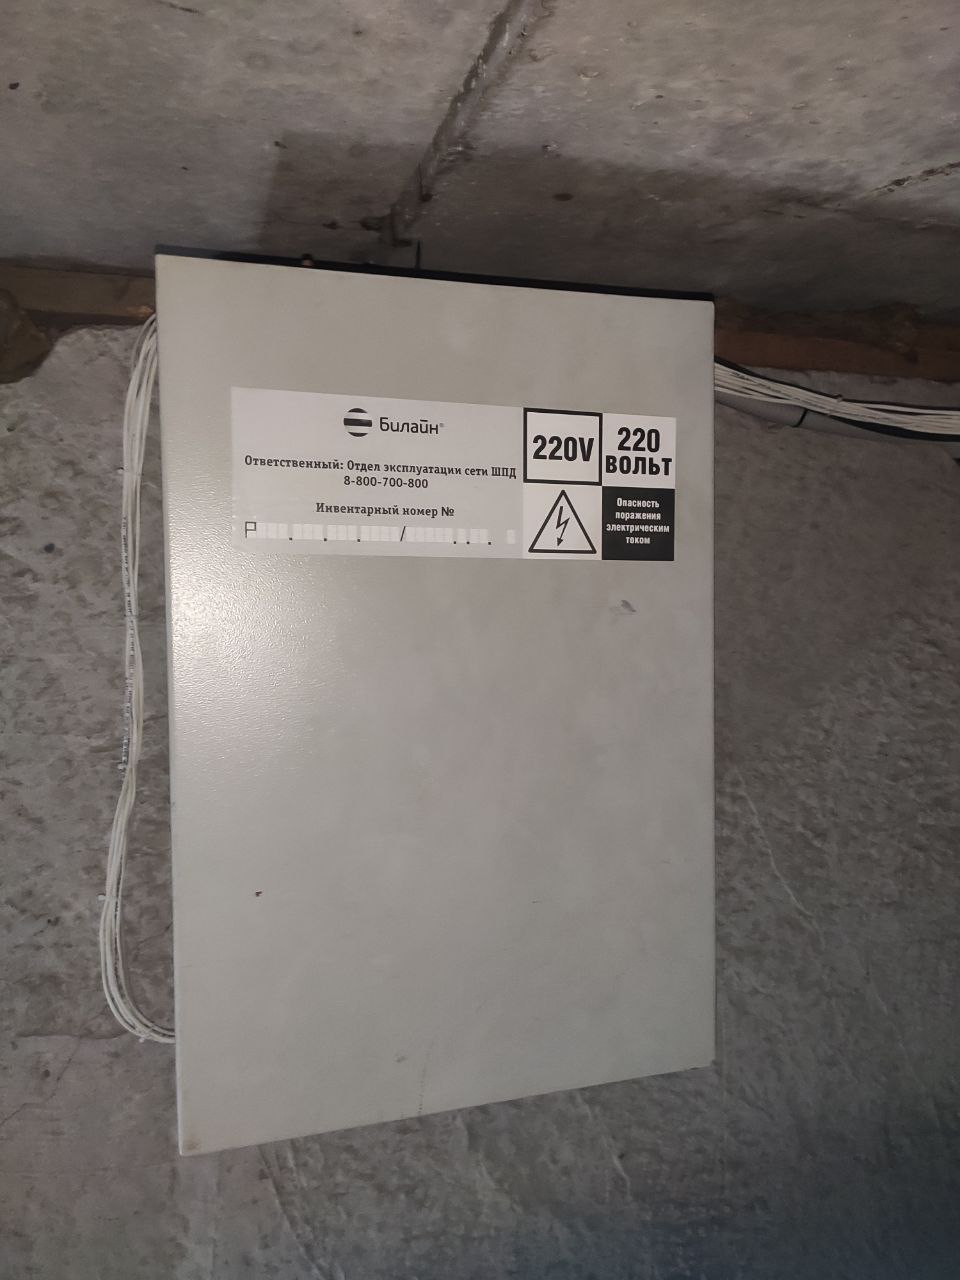sv-5: (138, 233, 731, 1167)
